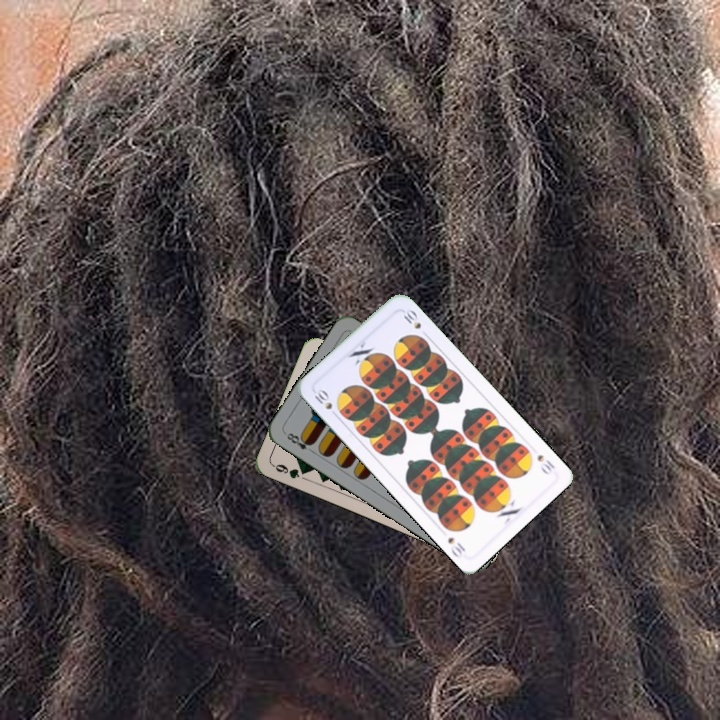E8: (281, 429, 317, 456)
G9: (269, 460, 310, 481)
S10: (308, 385, 341, 420), (533, 450, 557, 477)
